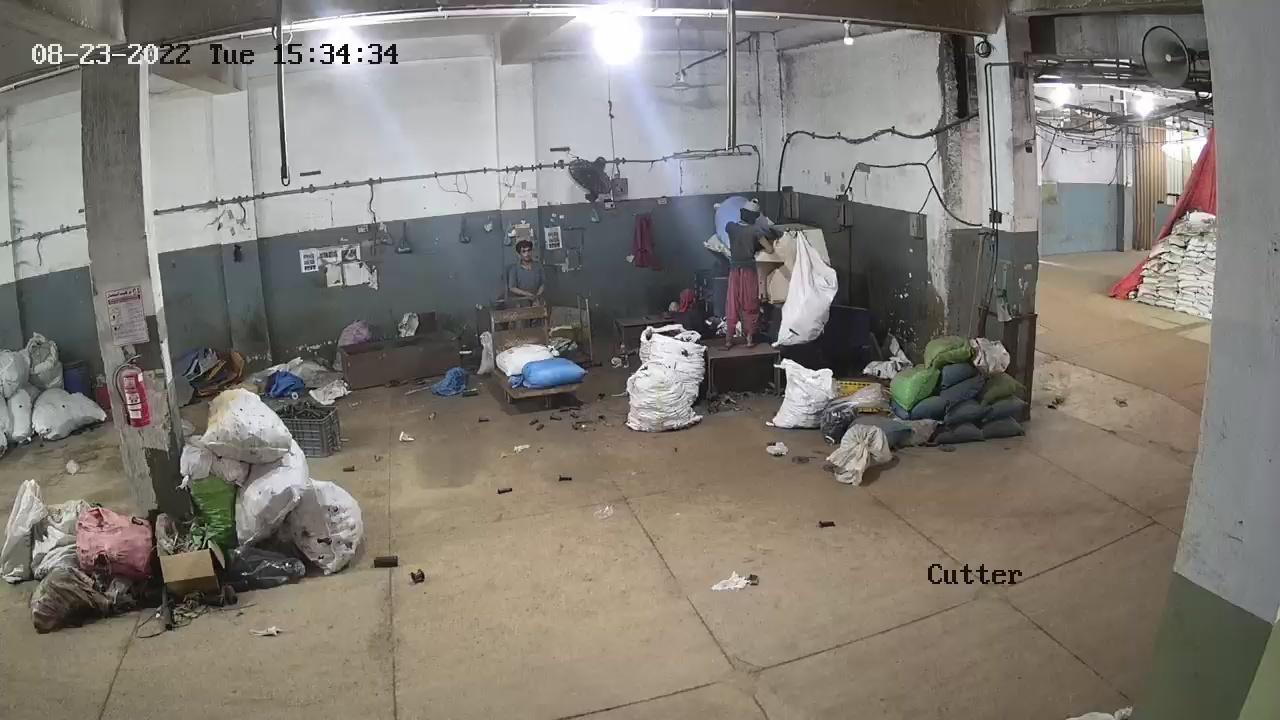person: (152, 501, 239, 623), (729, 208, 766, 347), (507, 235, 554, 315)
